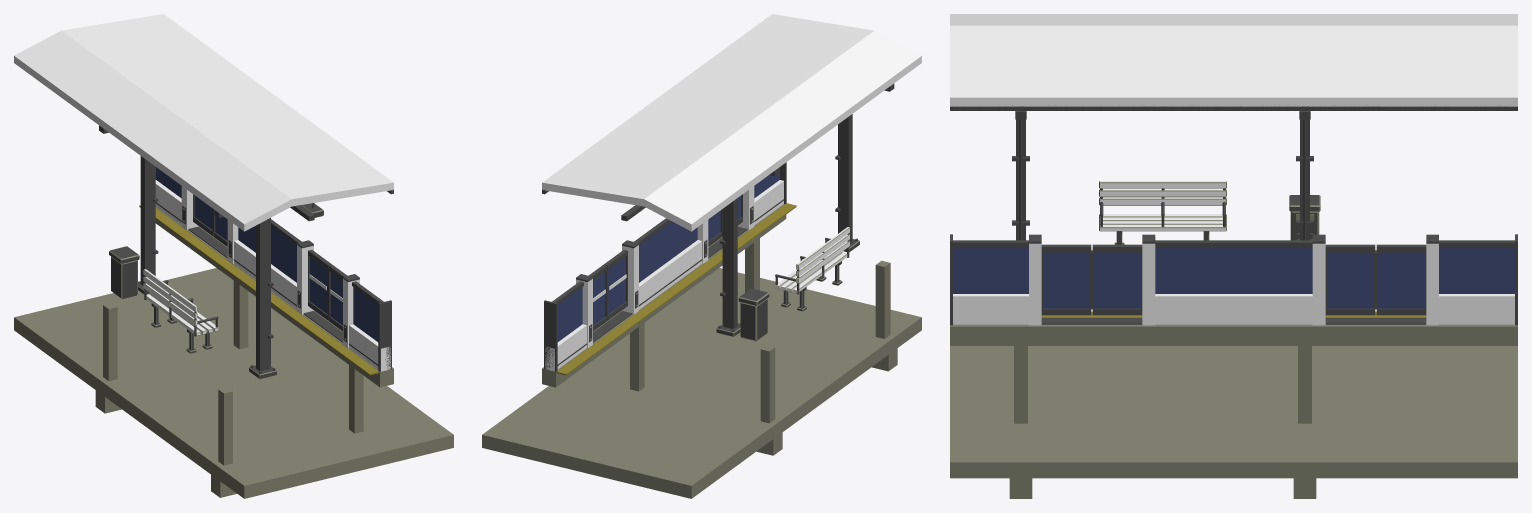
The model's file is platform_close.fbx.
The picture shows the model from 3 angles, left to right: view 1: azimuth 30°, elevation 25°; view 2: azimuth 150°, elevation 25°; view 3: azimuth 270°, elevation 25°; orthographic projection. The views are drawn at different scales.
Visible parts, largest first — view 1: p502/platform_close; view 2: p502/platform_close; view 3: p502/platform_close.
Boxes of the visible parts, x1,y1,x2,y2 form: p502/platform_close: [14, 14, 453, 498]; p502/platform_close: [482, 14, 921, 498]; p502/platform_close: [950, 14, 1517, 498].
Bounding box in the file's own units: 4.2 × 5.84 × 8.
